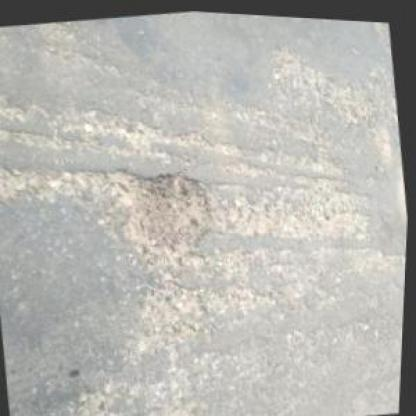pothole: (108, 153, 221, 262)
